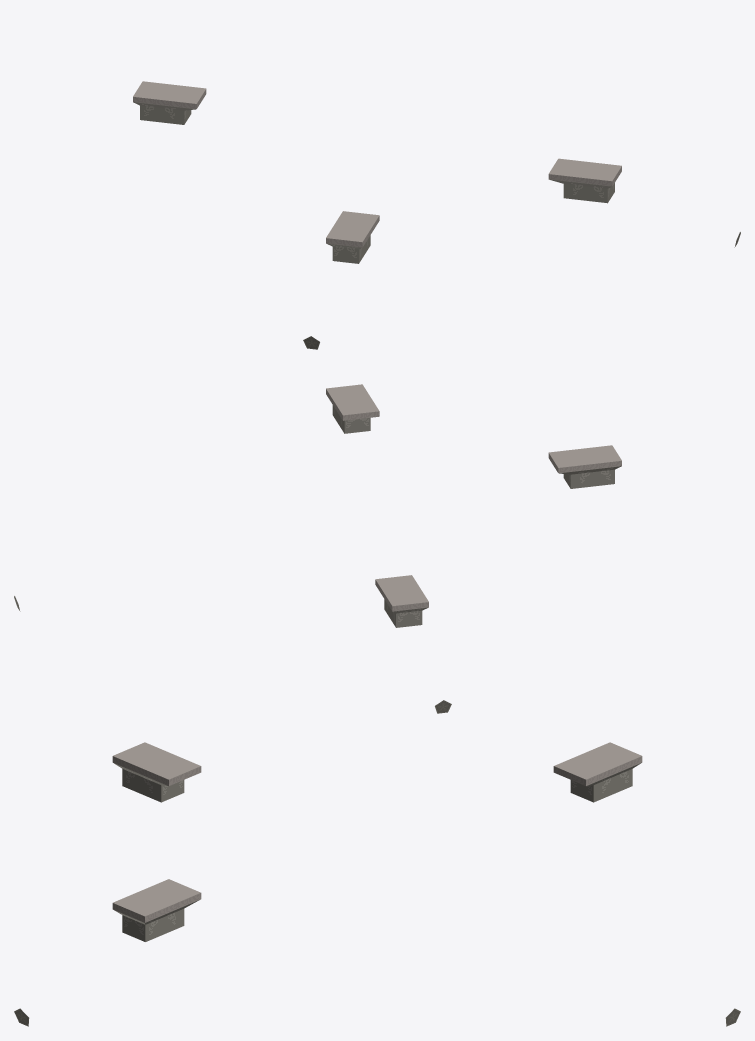
File: kd_stage_135ded_4_97_exterior.glb
3 views of the same model, one above another, from view 1: azimuth 30°, elevation 25°; view 2: azimuth 150°, elevation 25°; view 3: azimuth 270°, elevation 25° (orthographic). The views are drawn at different scales.
Visible parts, largest first — view 1: kd_stage_135ded_4_97_exterior; view 2: kd_stage_135ded_4_97_exterior; view 3: kd_stage_135ded_4_97_exterior.
Part boxes in pixels (box(x1,y1,x2,y2)): kd_stage_135ded_4_97_exterior: box(133, 81, 740, 349); kd_stage_135ded_4_97_exterior: box(14, 384, 621, 713); kd_stage_135ded_4_97_exterior: box(14, 742, 740, 1026).
Bounding box in the file's own units: 6.73 × 0.8631 × 8.03.
Materials: 1 (1 with a texture image).
